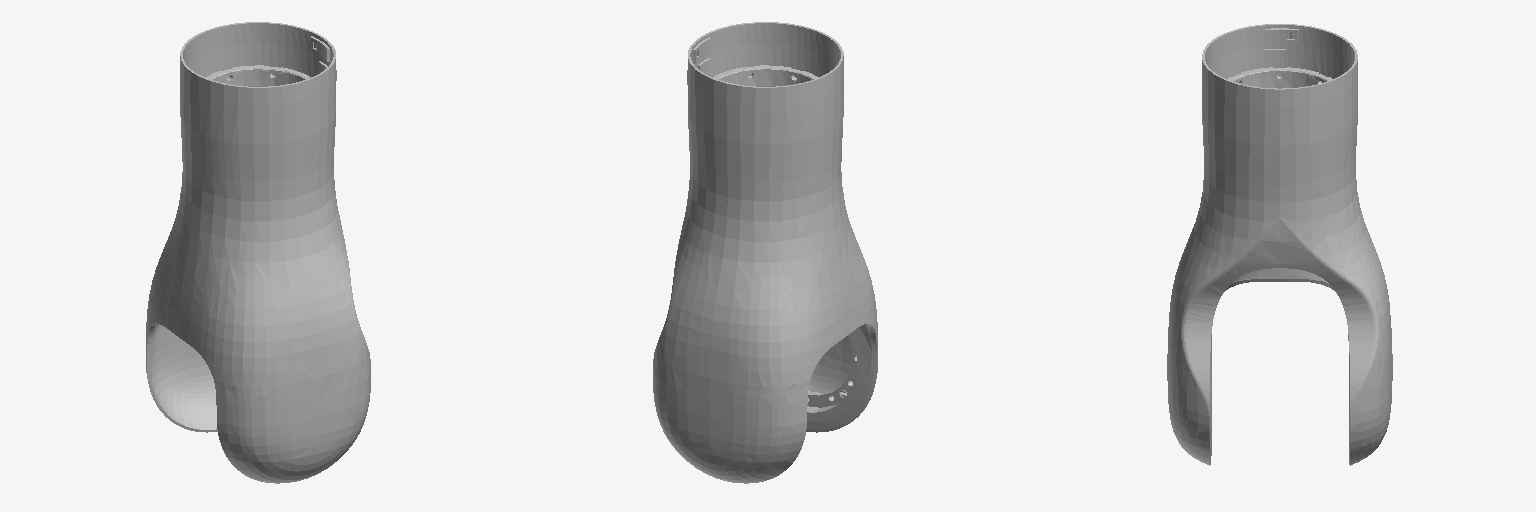
File: left_arm_link2.obj
3 views of the same model, side by side, from view 1: azimuth 30°, elevation 25°; view 2: azimuth 150°, elevation 25°; view 3: azimuth 270°, elevation 25° (orthographic).
Visible parts, largest first — view 1: Left_Arm_Link2; view 2: Left_Arm_Link2; view 3: Left_Arm_Link2.
Boxes of the visible parts, box(x1,y1,x2,y2) form: Left_Arm_Link2: box(146, 22, 370, 483); Left_Arm_Link2: box(653, 22, 877, 483); Left_Arm_Link2: box(1167, 24, 1392, 465).
Bounding box in the file's own units: 0.0957 × 0.234 × 0.1192.